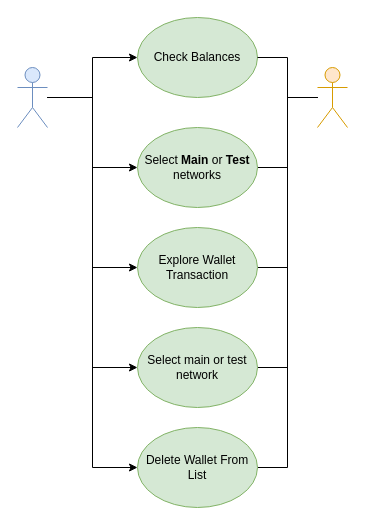
Image size: 388x525. Some labels were removed from this diagram. Each missing label, with the centre of its shape:
<<MegaTon>>: (332,97)
User: (32,97)
